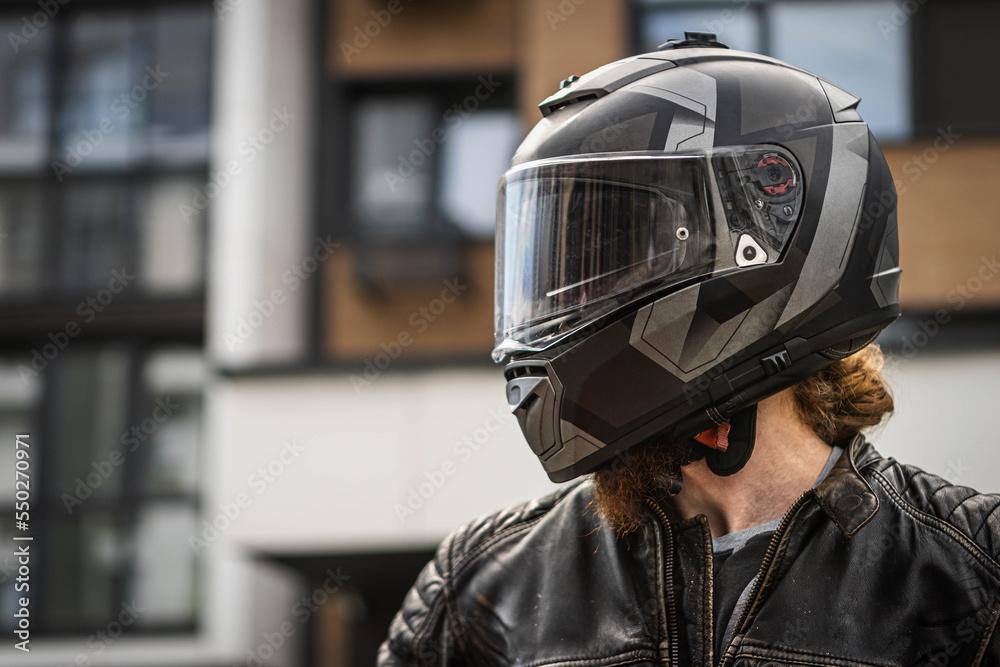helmet: (489, 27, 903, 485)
